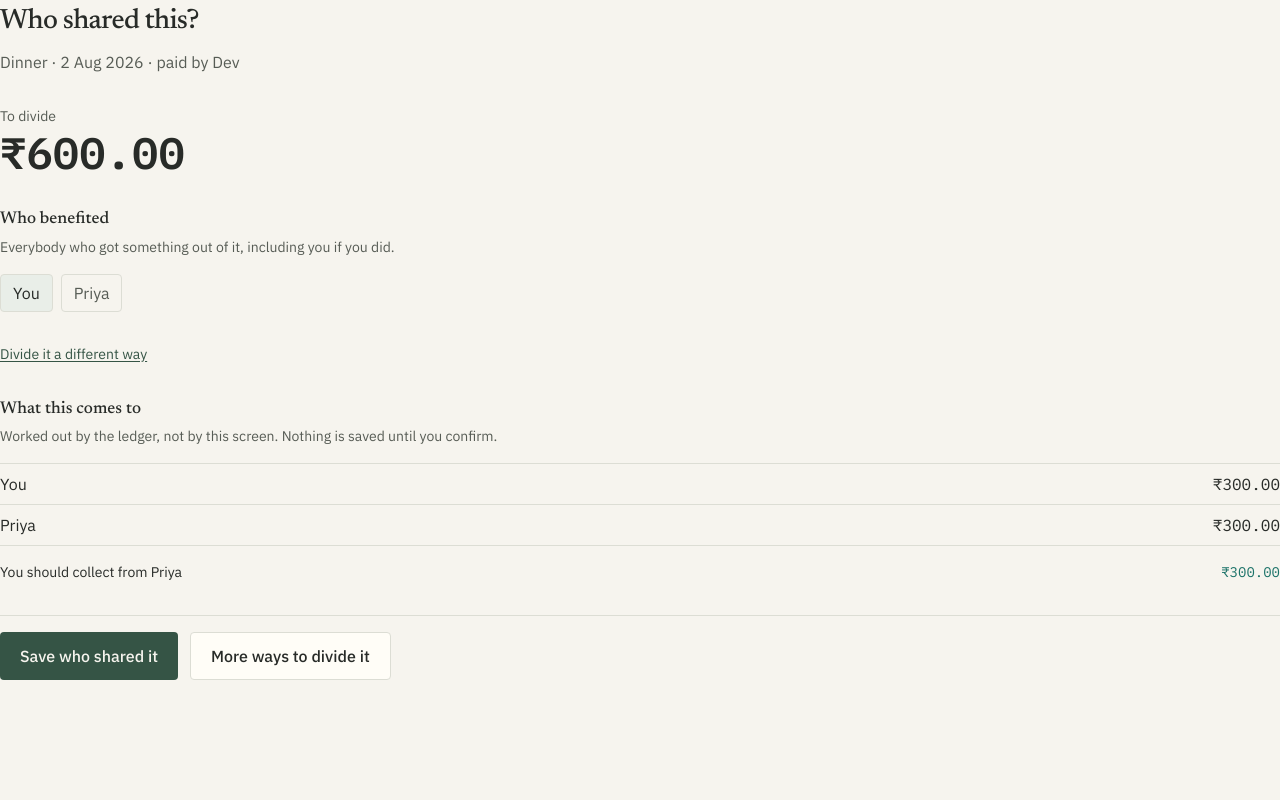
saying who shared an expense › states the consequence in the payer's direction before saving
The image size is (1280, 800).
Expected: the heading "What this comes to" is shown, [0,400,141,418]
What coordinates should you click on to do the following:
click the button "Save who shared it"
I would click on:
 (89, 656)
Its box is [0,632,178,680].
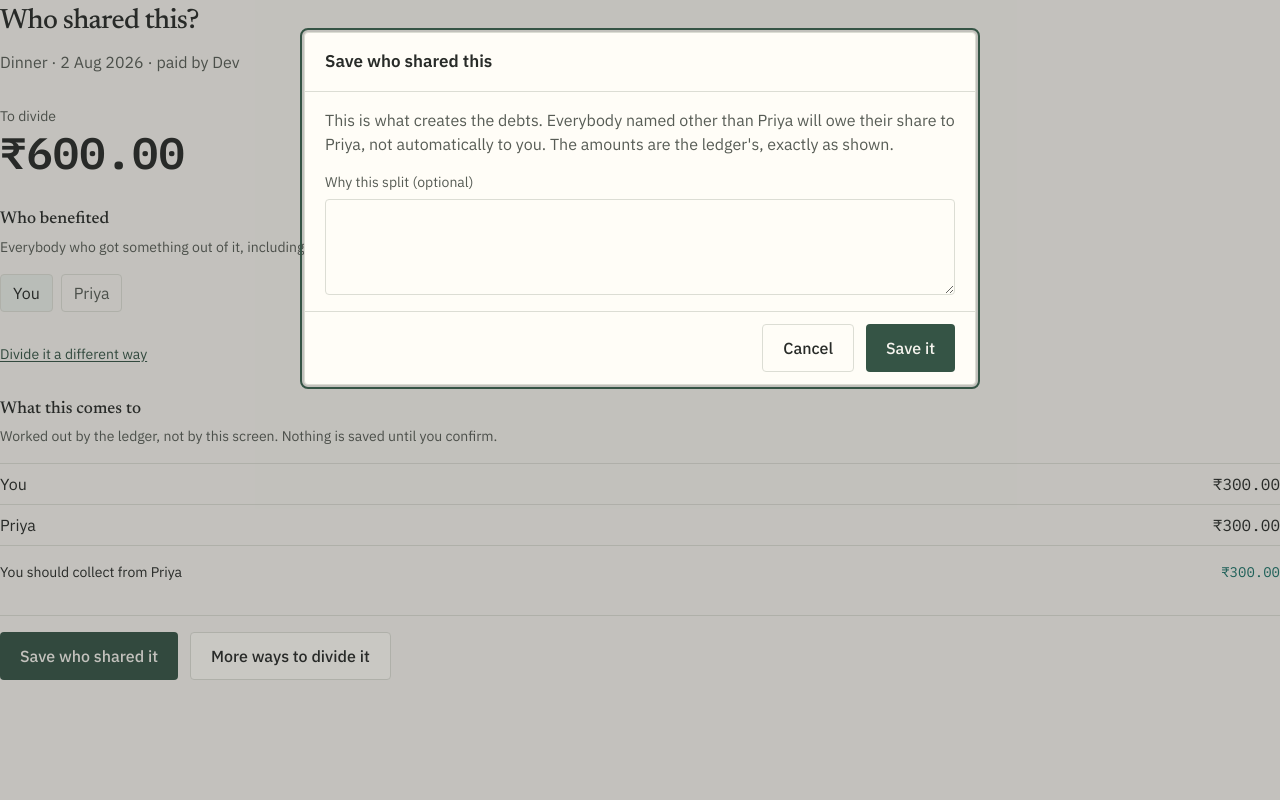
Expected: the text "will owe their share to Priya" is shown, [325,108,955,156]
